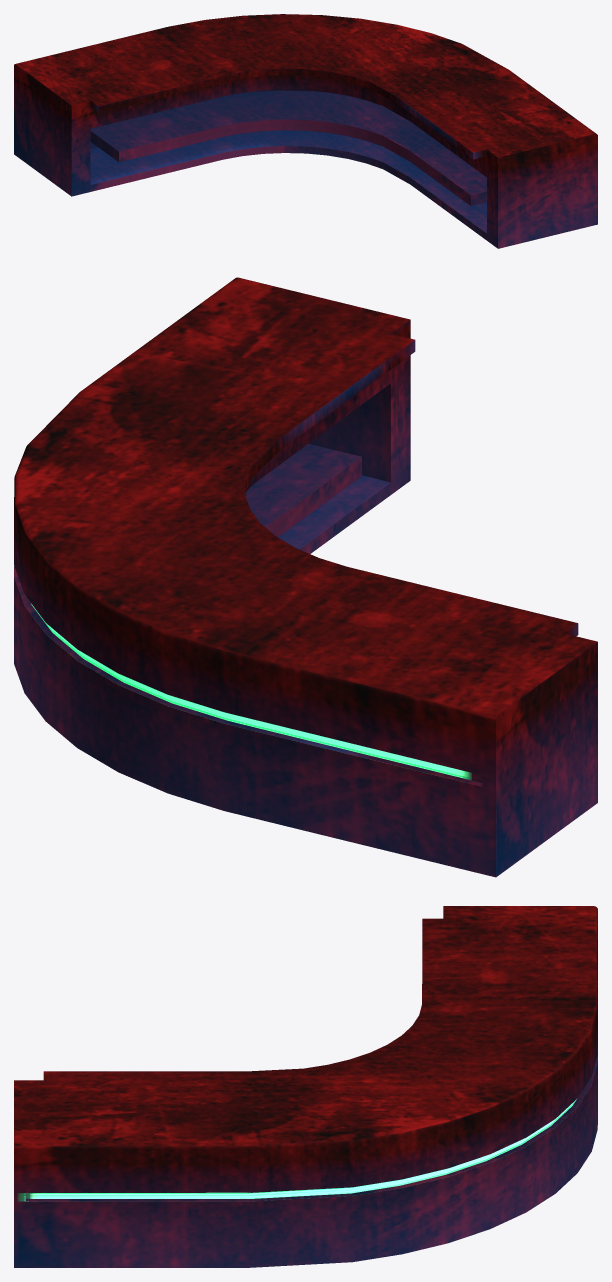
File: LIH0210012.fbx
3 renders of one model, top to bottom at view 1: azimuth 30°, elevation 25°; view 2: azimuth 150°, elevation 25°; view 3: azimuth 270°, elevation 25°, orthographic. The views are drawn at different scales.
Visible parts, largest first — view 1: smLIH0210012; view 2: smLIH0210012; view 3: smLIH0210012.
Part boxes in pixels (bbox=[...]): smLIH0210012: bbox=[14, 14, 597, 248]; smLIH0210012: bbox=[14, 277, 597, 877]; smLIH0210012: bbox=[14, 906, 597, 1267].
Size of the model in its own units: 518 by 123 by 534.
Materials: 1 (1 with a texture image).
